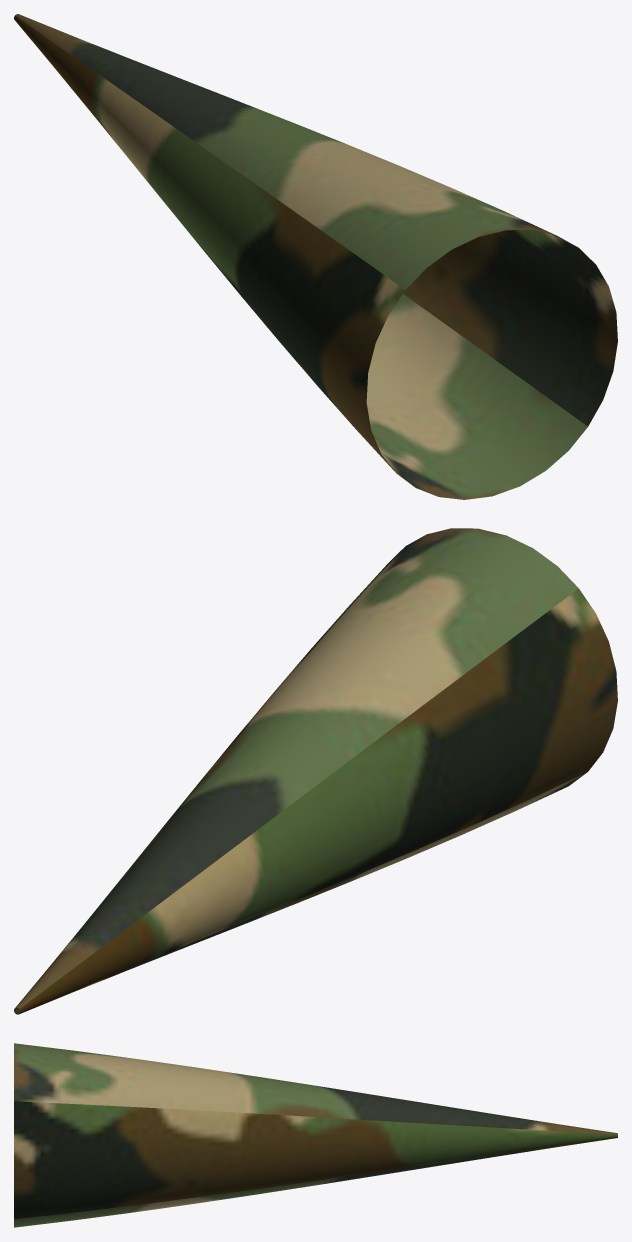
Rendered from w_tbmdec.glb.
The picture shows the model from 3 angles, top to bottom: view 1: azimuth 30°, elevation 25°; view 2: azimuth 150°, elevation 25°; view 3: azimuth 270°, elevation 25°; orthographic projection. The views are drawn at different scales.
Parts seen in each view (by area): view 1: body|Mat.1; view 2: body|Mat.1; view 3: body|Mat.1.
Boxes of the visible parts, <box> form: body|Mat.1: <box>14,14,617,499</box>; body|Mat.1: <box>14,528,617,1014</box>; body|Mat.1: <box>14,1043,617,1227</box>.
Bounding box in the file's own units: 0.6228 × 0.6219 × 2.04.
Materials: 1 (1 with a texture image).
